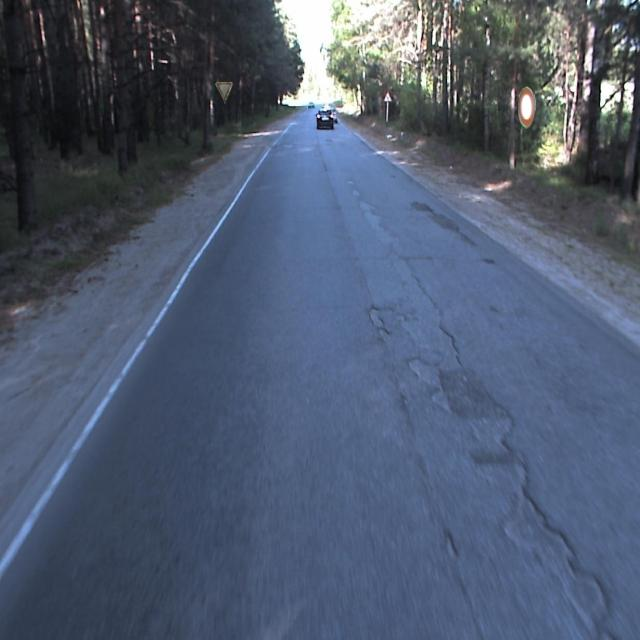road: (0, 105, 639, 639)
